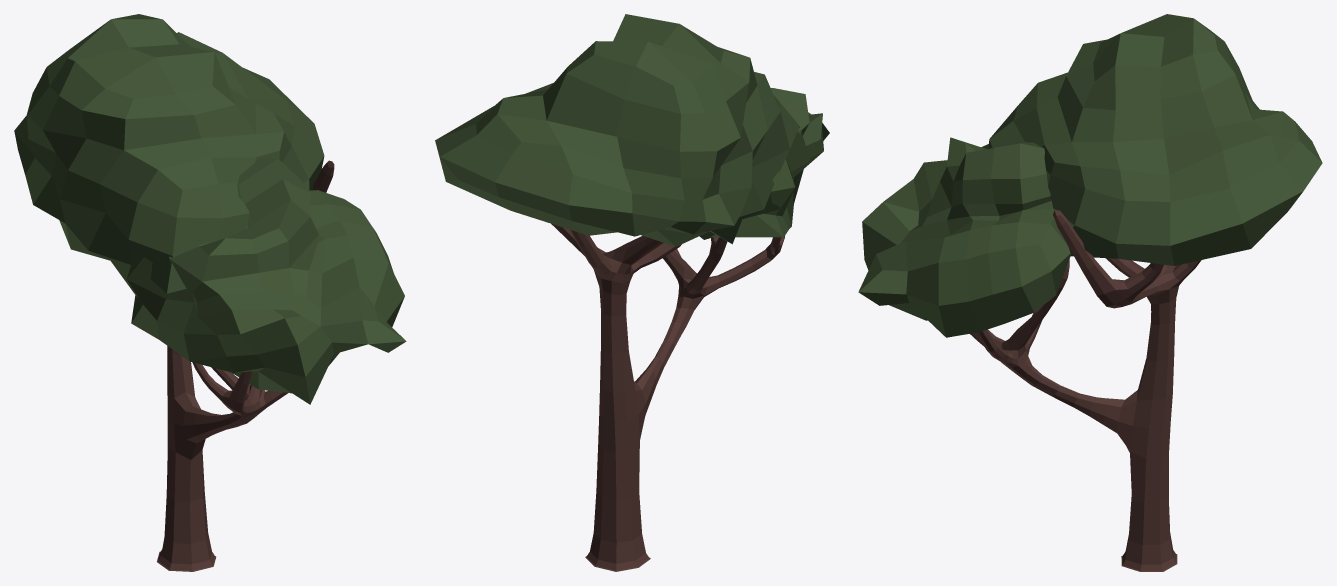
Rendered from tree_common_2.glb.
3 renders of one model, left to right at view 1: azimuth 30°, elevation 25°; view 2: azimuth 150°, elevation 25°; view 3: azimuth 270°, elevation 25°, orthographic. The views are drawn at different scales.
Parts seen in each view (by area): view 1: tree_common_2; view 2: tree_common_2; view 3: tree_common_2.
Boxes of the visible parts, x1,y1,x2,y2 form: tree_common_2: (14,14,406,571); tree_common_2: (435,14,829,571); tree_common_2: (858,14,1322,571).
Size of the model in its own units: 5.33 by 10 by 8.14.
